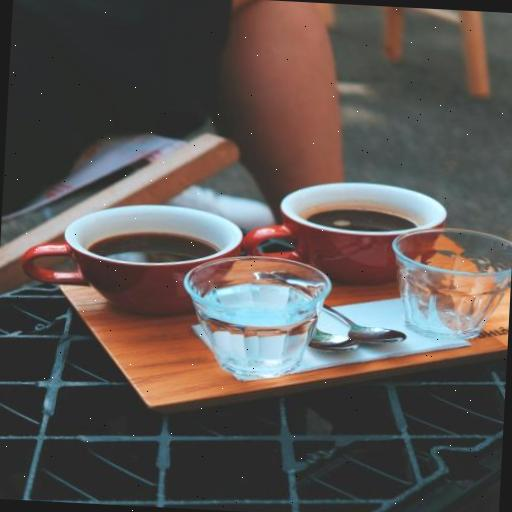cup: (20, 197, 244, 318), (243, 176, 448, 290)
